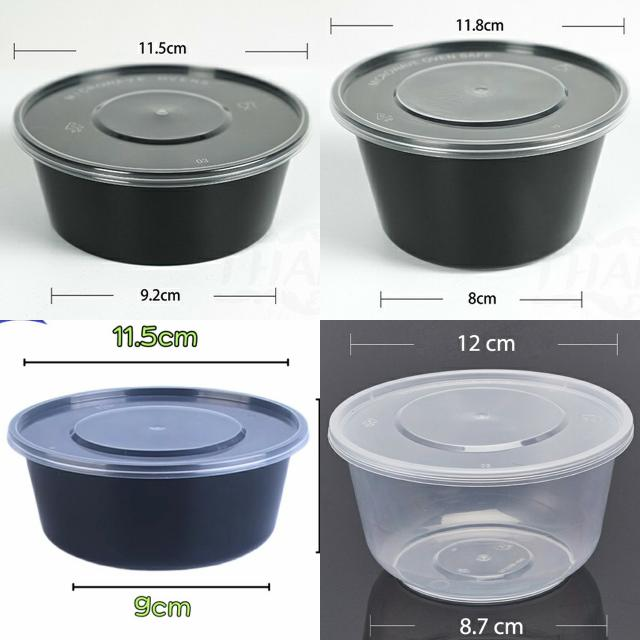Single-Use-Plastic: (328, 370, 634, 603), (332, 41, 629, 268), (14, 65, 309, 265), (8, 388, 308, 570)
